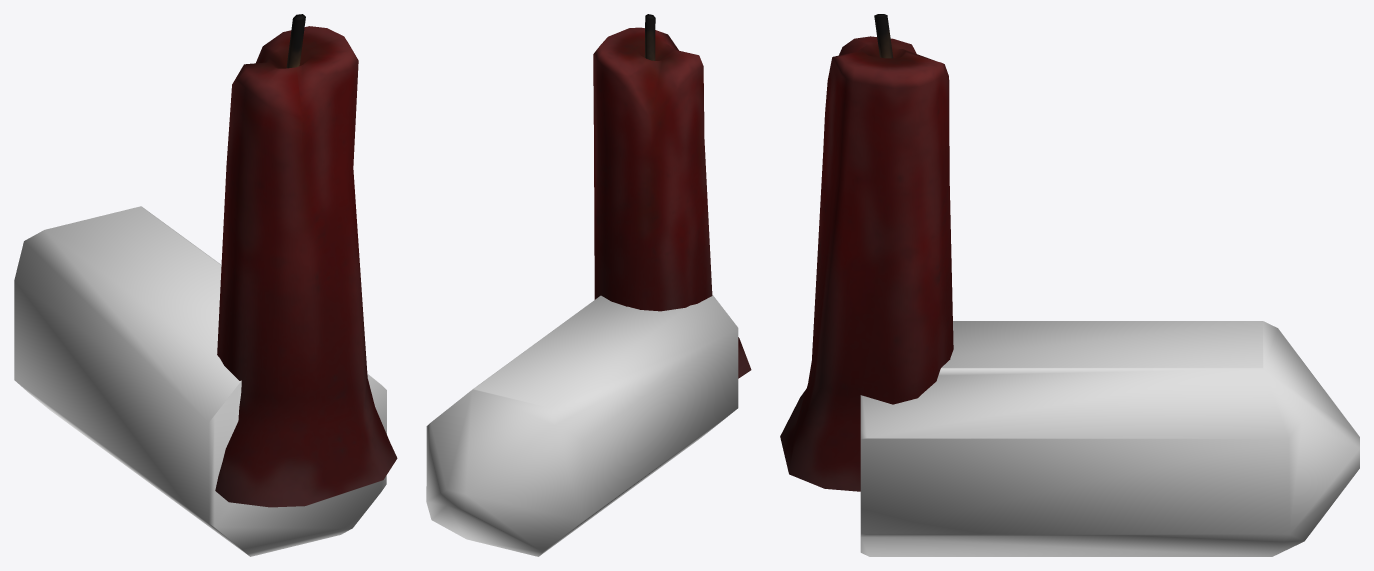
Rendered from SM_Candles_C.fbx.
The picture shows the model from 3 angles, left to right: view 1: azimuth 30°, elevation 25°; view 2: azimuth 150°, elevation 25°; view 3: azimuth 270°, elevation 25°; orthographic projection. The views are drawn at different scales.
Parts seen in each view (by area): view 1: SM_Candles_C, SM_Candles_C_ConvexHulls; view 2: SM_Candles_C_ConvexHulls, SM_Candles_C; view 3: SM_Candles_C_ConvexHulls, SM_Candles_C.
Boxes of the visible parts, x1=… form: SM_Candles_C: x1=215, y1=14, x2=397, y2=507; SM_Candles_C_ConvexHulls: x1=14, y1=206, x2=386, y2=556; SM_Candles_C_ConvexHulls: x1=426, y1=295, x2=738, y2=556; SM_Candles_C: x1=593, y1=14, x2=751, y2=378; SM_Candles_C_ConvexHulls: x1=860, y1=321, x2=1359, y2=556; SM_Candles_C: x1=780, y1=14, x2=953, y2=491.
Bounding box in the file's own units: 0.1079 × 0.3031 × 0.3032.
